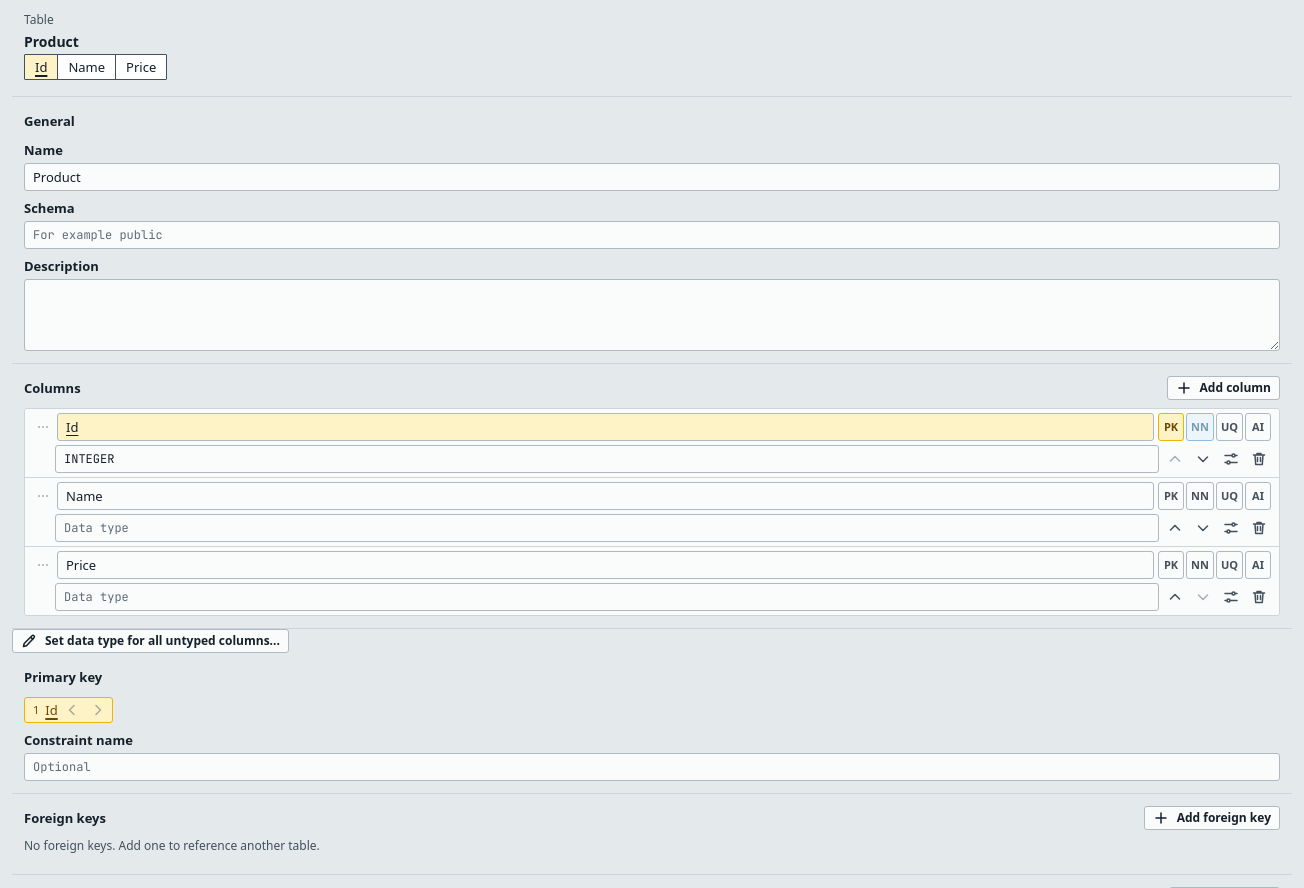
Scenario: UX-6: bulk data type for untyped columns › sets one type on every untyped column of the table in one commit and shows the count
Click the button with test id "bulk-type-open" at (150, 641), box [12, 629, 289, 653]
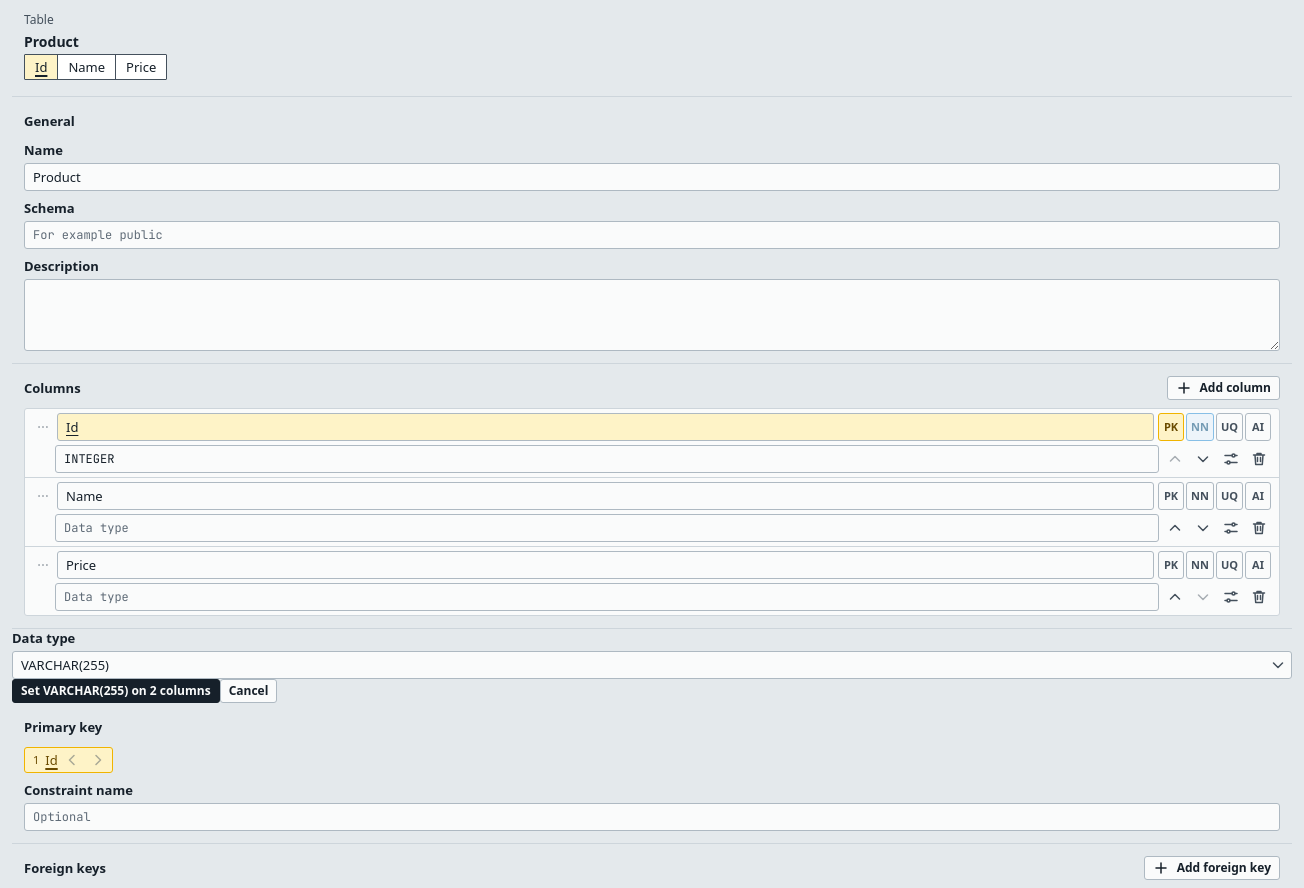
Result: the button with test id "bulk-type-apply" shows "2 columns"
Click the button with test id "bulk-type-apply" at (116, 691), box [12, 679, 220, 703]
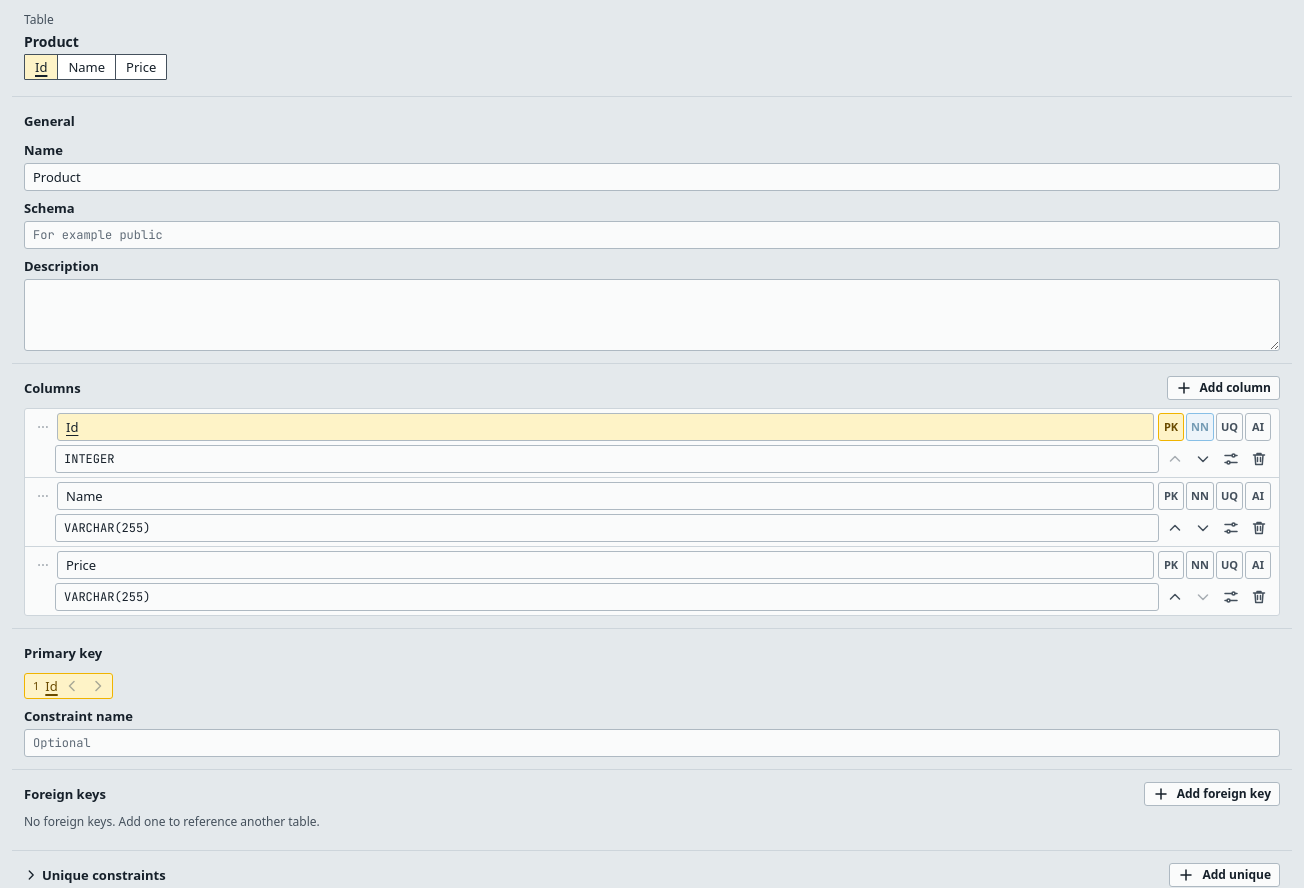
Result: the element with test id "bulk-type" is gone
